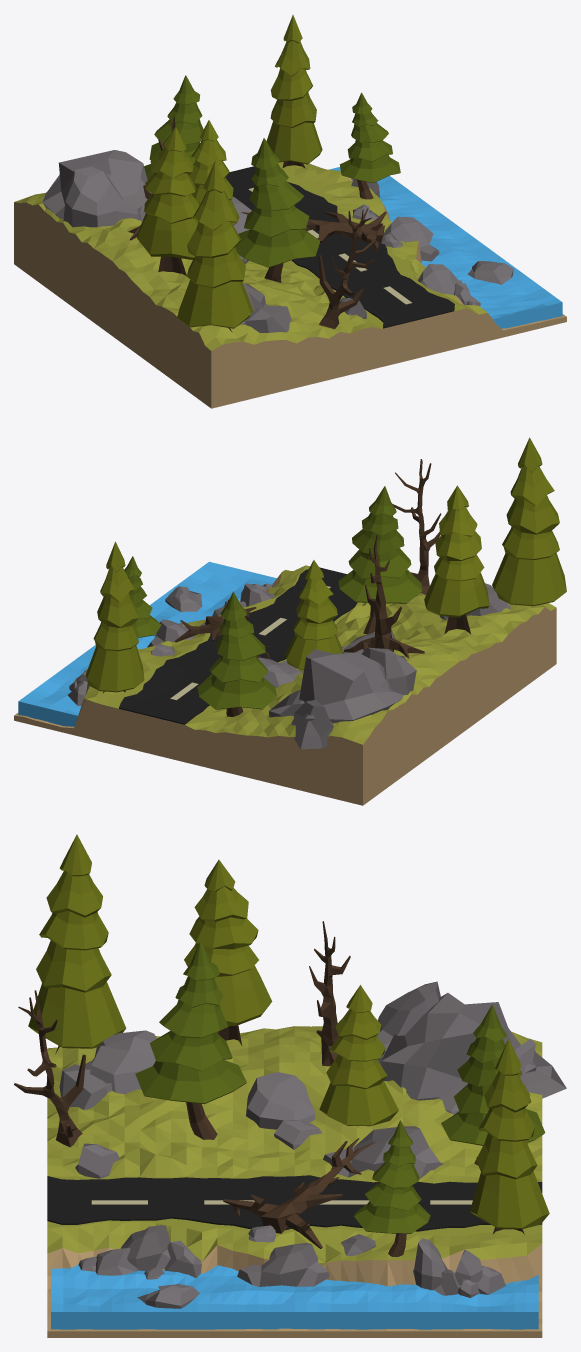
The model's file is forest-low.fbx.
3 views of the same model, one above another, from view 1: azimuth 30°, elevation 25°; view 2: azimuth 150°, elevation 25°; view 3: azimuth 270°, elevation 25° (orthographic). The views are drawn at different scales.
Visible parts, largest first — view 1: terra, road, water, tree.000, tree1, tree.002, tree.001, rock3.001, rock4.001, tree1.002, tree1.001, derevo1.001 (+6 smaller); view 2: terra, road, tree.000, water, tree.002, tree.001, rock3.001, tree1.001, tree1, tree.003, derevo2, rock2.002 (+10 smaller); view 3: terra, water, road, tree.000, tree1, tree.001, tree.002, rock3.001, tree.003, tree1.002, tree1.001, derevo2.001 (+19 smaller).
Part boxes in pixels (bbox=[...]): terra: bbox=[14, 162, 566, 408]; road: bbox=[225, 166, 454, 328]; water: bbox=[329, 167, 562, 328]; tree.000: bbox=[177, 160, 253, 332]; tree1: bbox=[235, 138, 320, 267]; tree.002: bbox=[137, 126, 198, 276]; tree.001: bbox=[266, 15, 322, 168]; rock3.001: bbox=[42, 150, 151, 218]; rock4.001: bbox=[63, 166, 139, 227]; tree1.002: bbox=[339, 92, 400, 183]; tree1.001: bbox=[144, 75, 203, 179]; derevo1.001: bbox=[318, 208, 375, 328]; terra: bbox=[14, 565, 556, 805]; road: bbox=[119, 567, 357, 724]; tree.000: bbox=[492, 437, 566, 606]; water: bbox=[18, 561, 276, 726]; tree.002: bbox=[424, 485, 489, 634]; tree.001: bbox=[85, 541, 144, 692]; rock3.001: bbox=[299, 649, 403, 723]; tree1.001: bbox=[197, 591, 276, 709]; tree1: bbox=[338, 486, 422, 603]; tree.003: bbox=[285, 560, 342, 669]; derevo2: bbox=[344, 535, 424, 658]; rock2.002: bbox=[291, 700, 333, 749]; terra: bbox=[47, 1026, 542, 1337]; water: bbox=[51, 1264, 538, 1329]; road: bbox=[47, 1175, 542, 1231]; tree.000: bbox=[28, 834, 126, 1054]; tree1: bbox=[135, 941, 246, 1104]; tree.001: bbox=[470, 1038, 549, 1234]; tree.002: bbox=[177, 859, 272, 1045]; rock3.001: bbox=[381, 993, 536, 1100]; tree.003: bbox=[319, 985, 398, 1126]; tree1.002: bbox=[354, 1120, 430, 1233]; tree1.001: bbox=[441, 1004, 545, 1145]; derevo2.001: bbox=[223, 1138, 375, 1248].
Size of the model in its own units: 1956 by 1186 by 2009.
